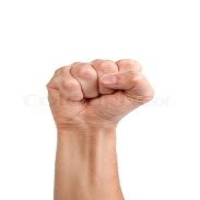ring: (71, 64, 100, 102)
